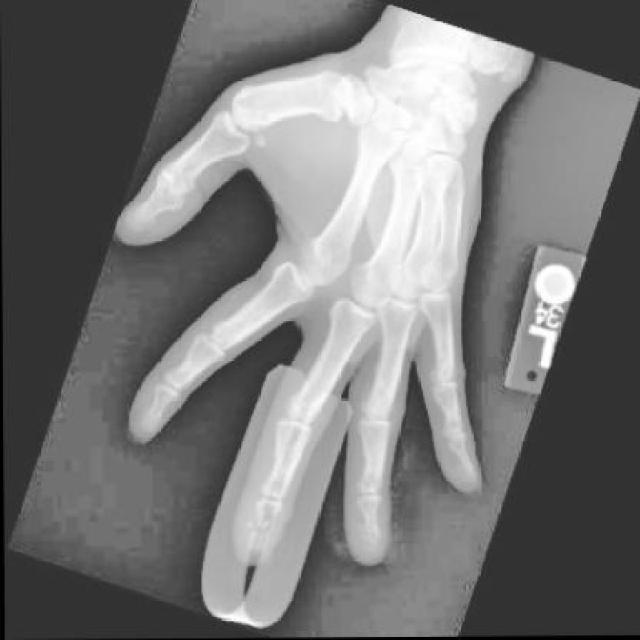Fracture: (237, 508, 281, 553), (351, 515, 384, 548)
